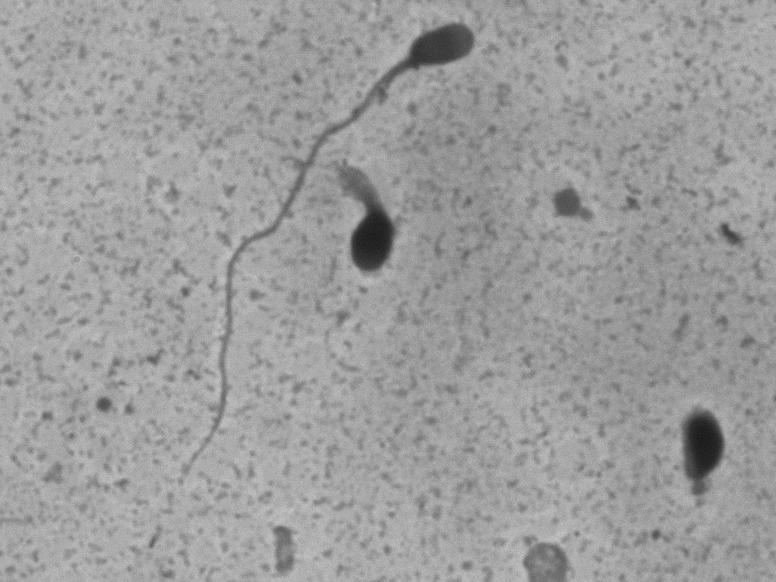Abnormal: (146, 10, 491, 524), (329, 143, 404, 302)
